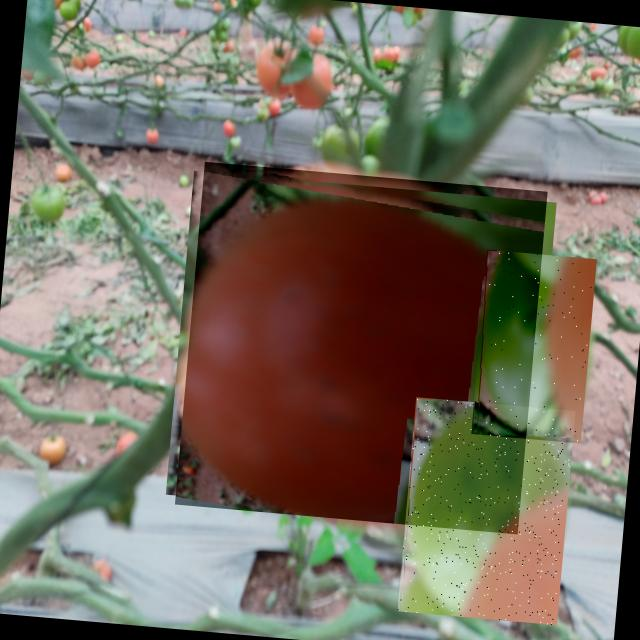Ripe Tomato: (174, 161, 547, 534)
Unripe Tomato: (398, 396, 576, 624), (471, 249, 596, 443)
